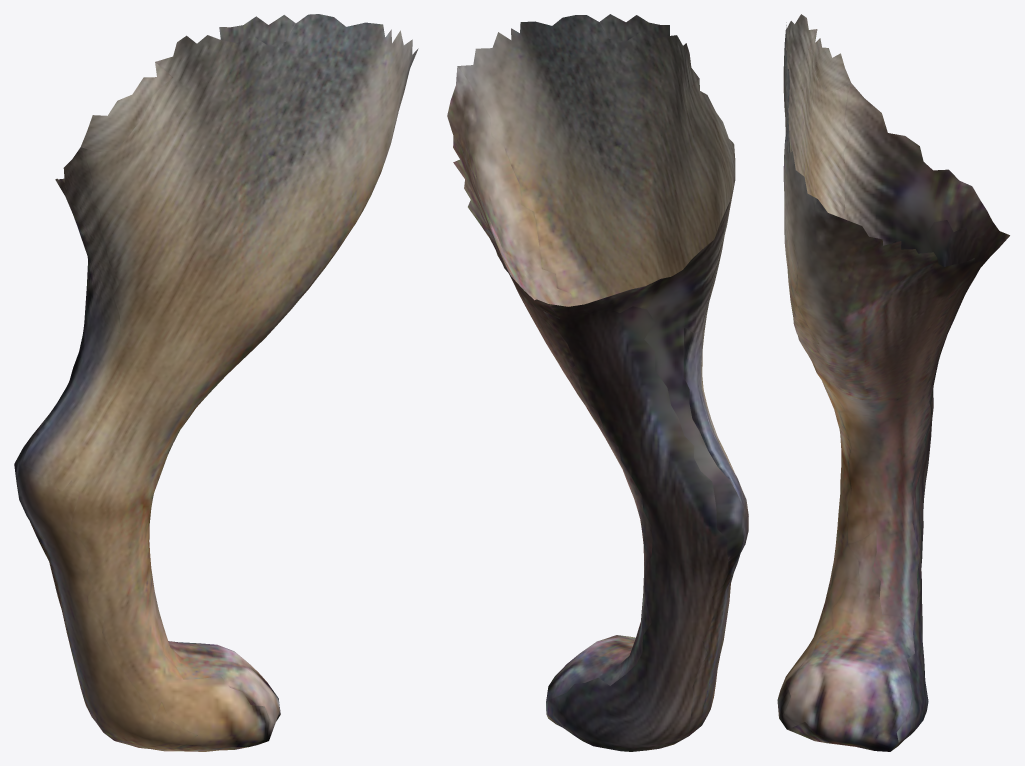
Rendered from B_LeftLegWolf.obj.
3 renders of one model, left to right at view 1: azimuth 30°, elevation 25°; view 2: azimuth 150°, elevation 25°; view 3: azimuth 270°, elevation 25°, orthographic. The views are drawn at different scales.
Visible parts, largest first — view 1: Mesh_0.002; view 2: Mesh_0.002; view 3: Mesh_0.002.
Part boxes in pixels (left/top/right/bottom): Mesh_0.002: left=14, top=14, right=418, bottom=751; Mesh_0.002: left=447, top=14, right=748, bottom=751; Mesh_0.002: left=777, top=14, right=1009, bottom=751.
Size of the model in its own units: 0.2351 by 0.4695 by 0.1405.
1 material, 1 textured.
